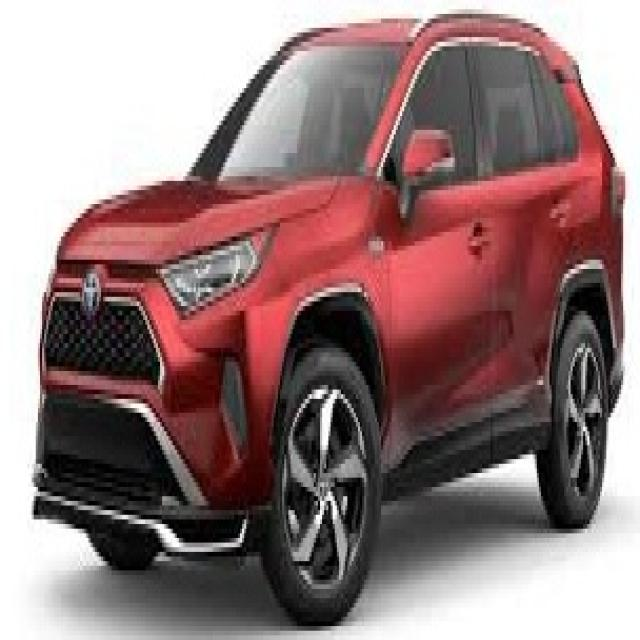maroon: (39, 15, 640, 551)
